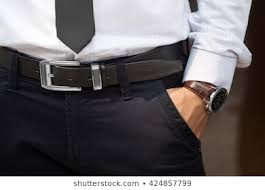F_belt: (1, 47, 220, 95)
